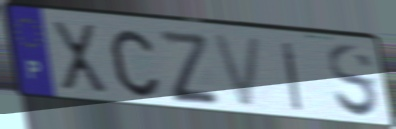C: (107, 27, 162, 100)
I: (279, 39, 305, 114)
S: (325, 42, 383, 122)
V: (209, 31, 265, 111)
X: (48, 18, 111, 99)
Z: (155, 27, 222, 104)
